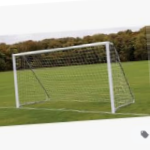goals: (11, 39, 141, 114)
